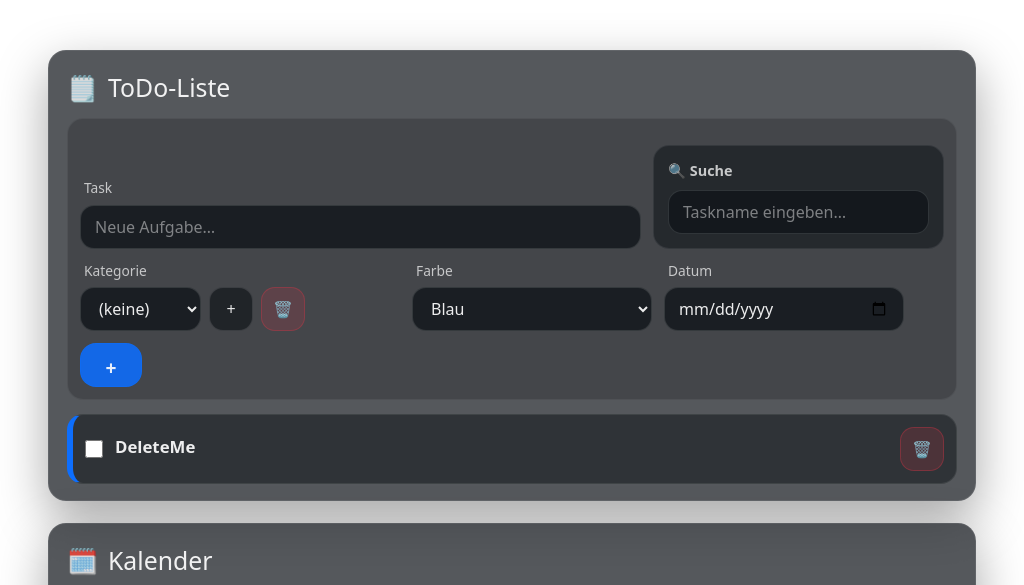
Test: TodoList › löscht eine Task (DELETE) und entfernt sie aus der Liste
Check: the text "DeleteMe" is shown, box [115,435,195,458]
Click the button titled "Task löschen" in the row of "DeleteMe" at (922, 449), box [900,427,944,471]
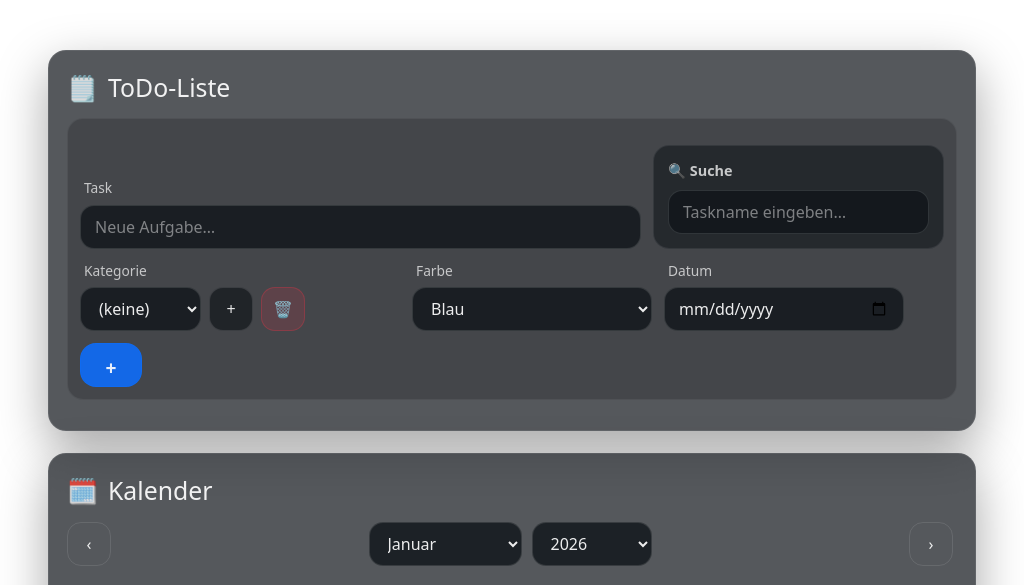
Check: the text "DeleteMe" is gone
